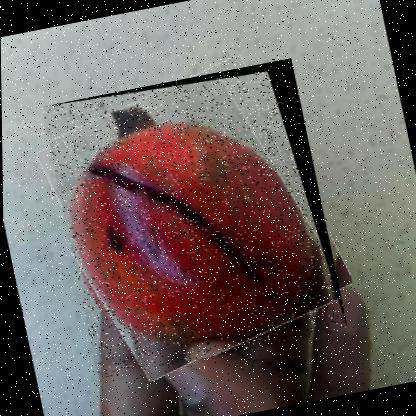pomegranate_rotten: (39, 56, 347, 378)
